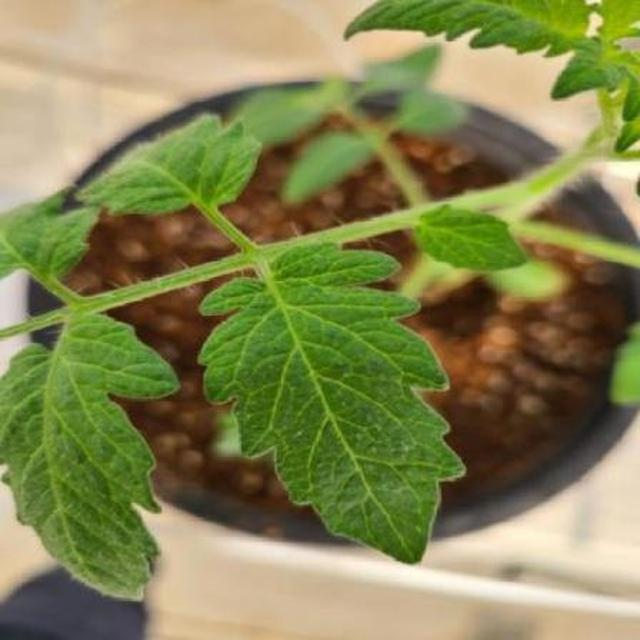Healthy Leaf: (129, 96, 640, 640)
